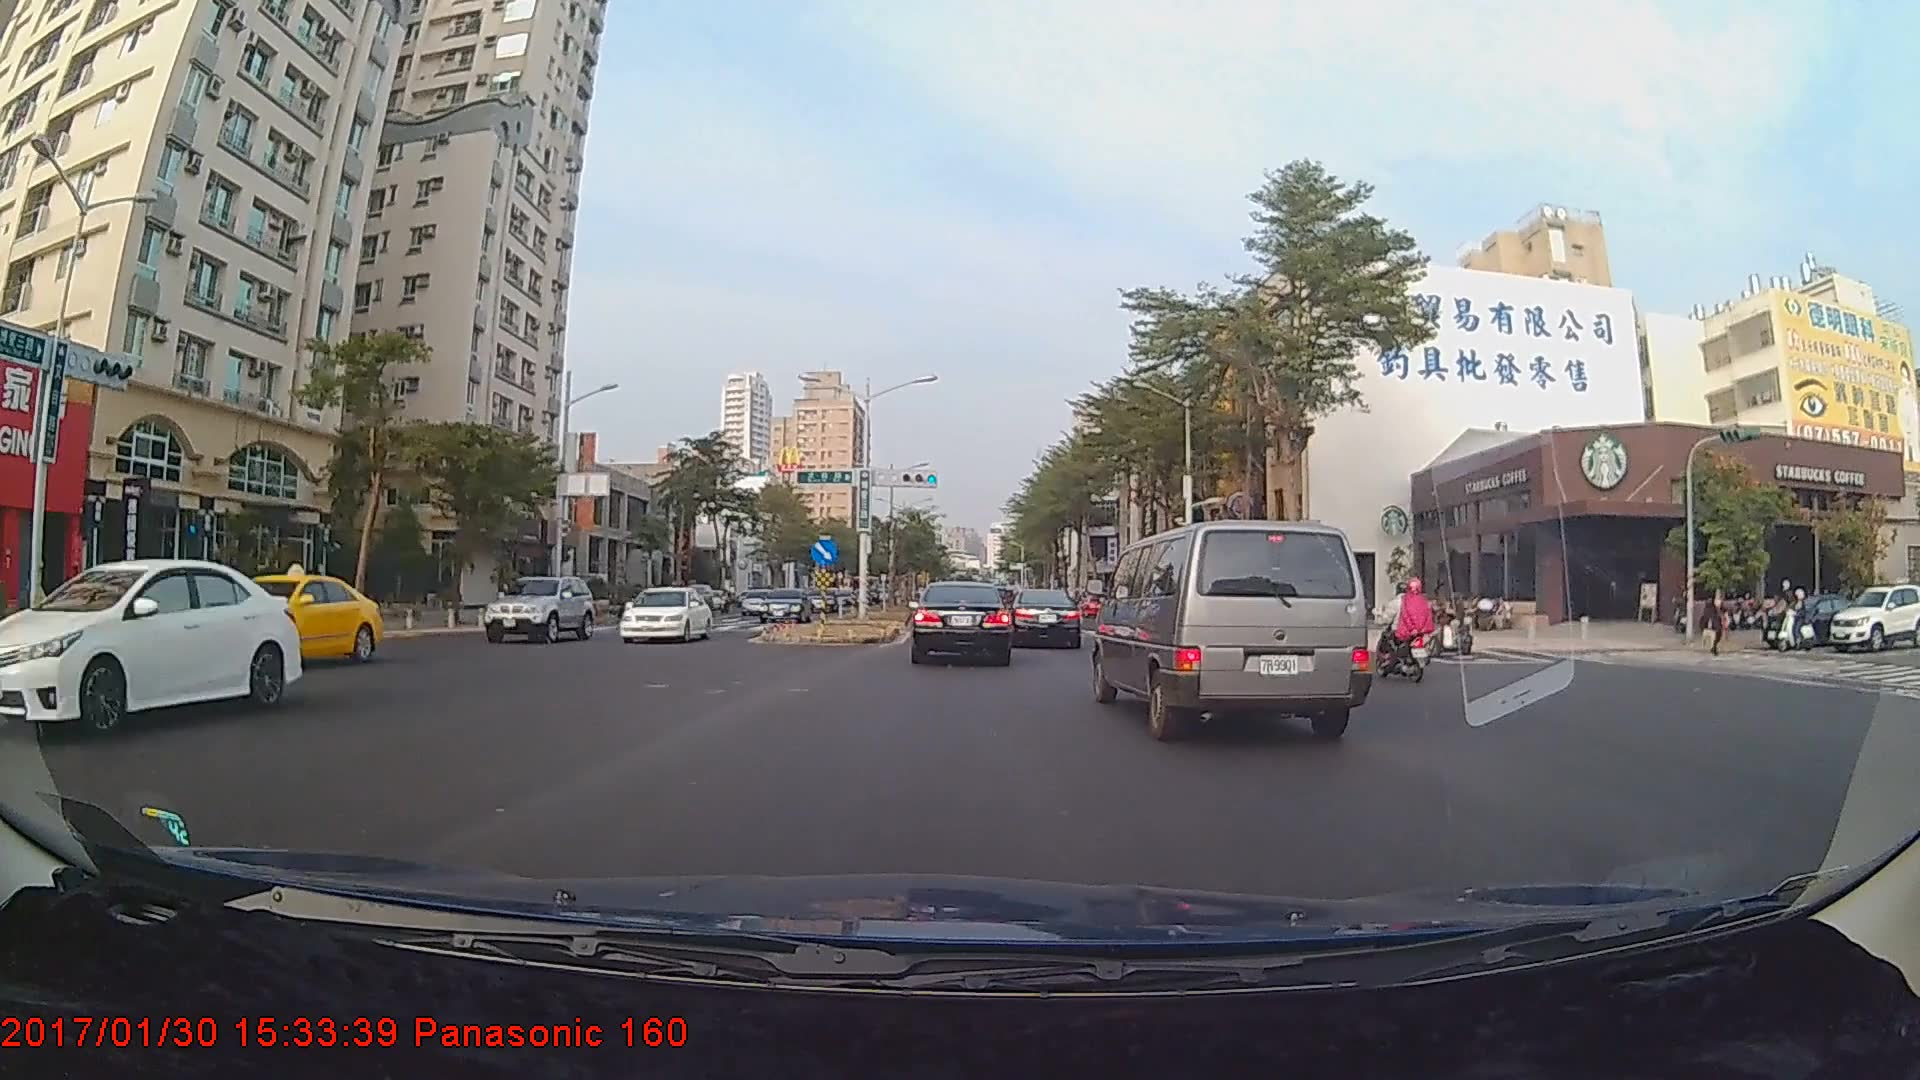pedestrian: (1708, 586, 1728, 654)
rider: (1371, 572, 1444, 677), (1773, 584, 1820, 654)
vehicle: (1099, 514, 1364, 741), (0, 559, 303, 734), (187, 573, 377, 662), (912, 580, 1012, 665), (478, 568, 588, 640), (1823, 584, 1917, 648), (616, 586, 712, 643), (1011, 587, 1081, 648), (754, 585, 812, 620)
